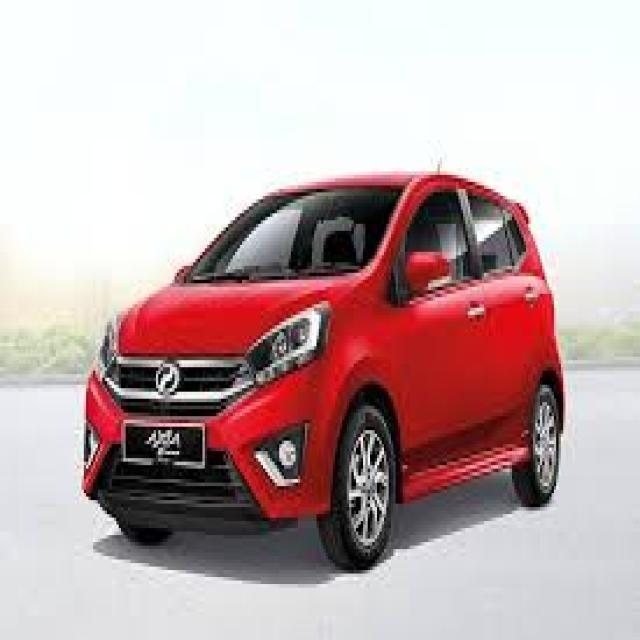PeroduaAxia: (79, 164, 566, 570)
